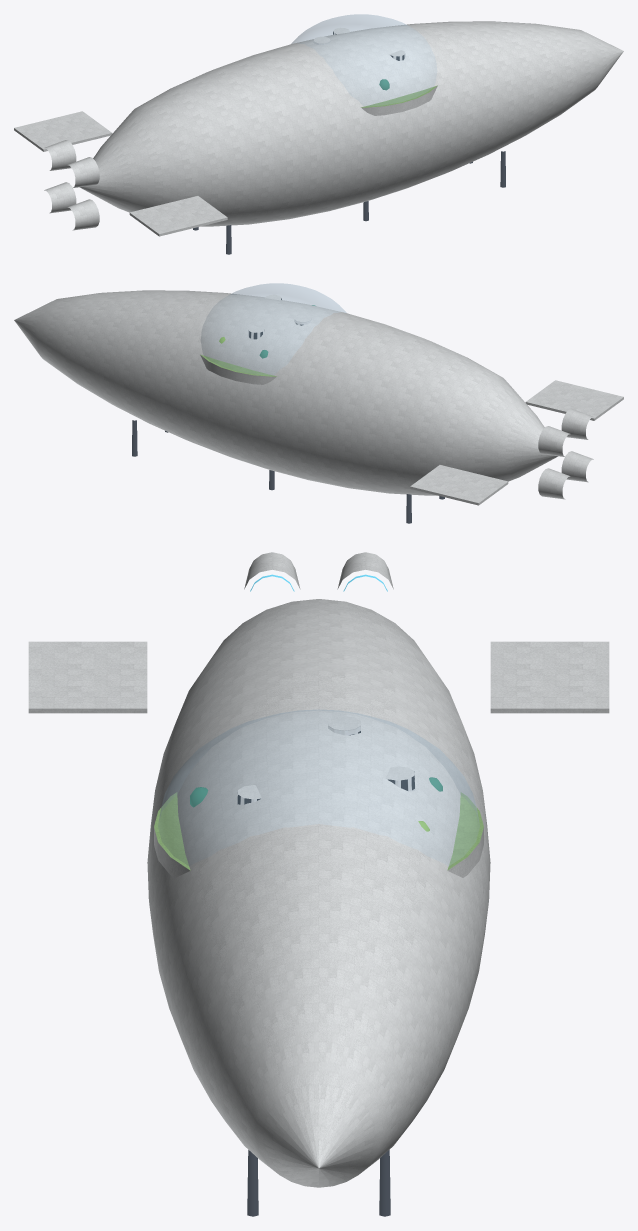
Rendered from generation_ark_village.glb.
The picture shows the model from 3 angles, top to bottom: view 1: azimuth 30°, elevation 25°; view 2: azimuth 150°, elevation 25°; view 3: azimuth 270°, elevation 25°; orthographic projection. The views are drawn at different scales.
Parts seen in each view (by area): view 1: generation_ark_village_LOD0; view 2: generation_ark_village_LOD0; view 3: generation_ark_village_LOD0.
Part boxes in pixels (x1,y1,x2,y2): generation_ark_village_LOD0: [14, 14, 623, 254]; generation_ark_village_LOD0: [14, 283, 623, 523]; generation_ark_village_LOD0: [28, 552, 609, 1216].
Size of what is drawn, in the model's own units: 99 by 30.1 by 43.99.
4 materials, 3 textured.
